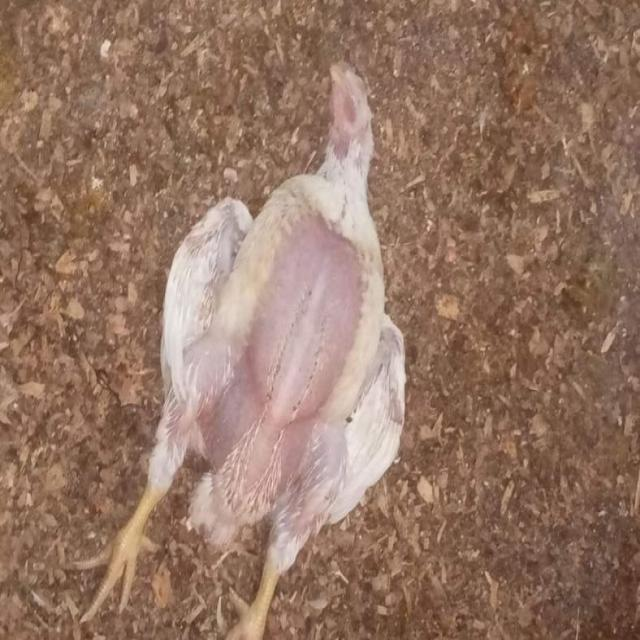Unhealthy: (74, 54, 640, 620)
